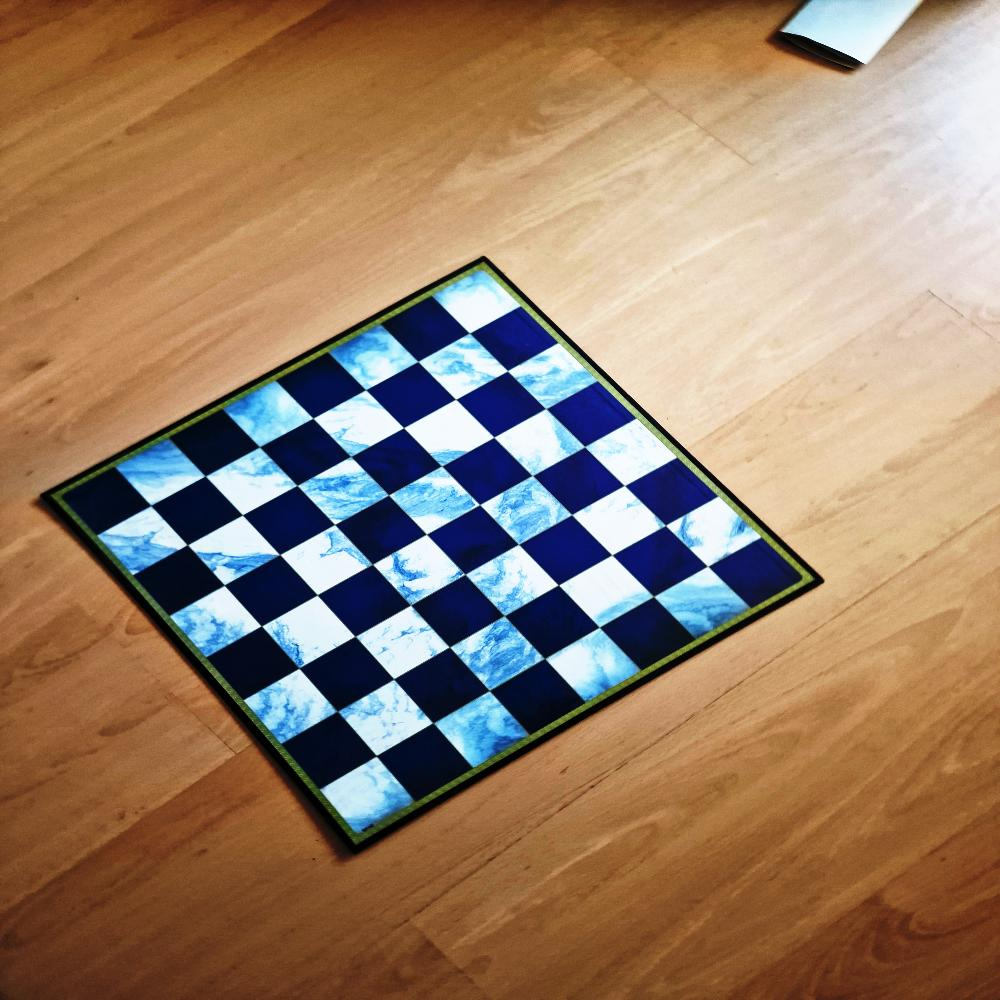chessfield: (319, 758, 421, 848), (434, 692, 537, 776), (544, 629, 646, 711), (338, 682, 438, 760), (710, 537, 816, 610), (655, 568, 755, 645), (378, 726, 474, 806), (426, 260, 523, 335), (281, 716, 376, 792), (248, 669, 343, 745), (166, 587, 262, 662), (354, 609, 450, 683), (451, 619, 547, 693), (45, 473, 151, 540), (492, 663, 590, 735), (558, 558, 654, 631), (113, 436, 207, 510), (570, 486, 666, 558), (262, 596, 358, 668), (278, 526, 375, 597), (396, 652, 488, 726), (602, 599, 696, 671), (469, 546, 564, 617), (219, 381, 312, 453), (187, 516, 280, 588), (374, 536, 467, 608), (668, 500, 762, 571), (300, 638, 392, 710), (506, 586, 598, 658), (480, 477, 576, 546), (295, 458, 389, 528), (208, 629, 300, 700), (206, 450, 300, 519), (322, 322, 416, 391), (411, 576, 502, 647), (99, 510, 187, 583), (319, 568, 410, 638), (615, 527, 706, 597), (132, 547, 223, 616), (582, 419, 674, 487), (519, 518, 611, 586), (494, 411, 586, 479), (390, 468, 480, 537), (227, 560, 318, 628), (507, 344, 598, 412), (312, 393, 403, 460), (402, 402, 494, 468), (417, 338, 508, 404), (337, 501, 426, 568), (426, 509, 515, 576), (626, 461, 716, 527), (242, 488, 332, 554), (169, 412, 259, 477), (152, 478, 240, 544), (443, 442, 532, 507), (277, 354, 366, 419), (532, 453, 622, 517), (260, 420, 348, 485), (368, 365, 457, 429), (353, 429, 440, 494), (549, 386, 636, 450), (457, 374, 544, 437), (382, 300, 470, 362), (471, 309, 556, 371)
